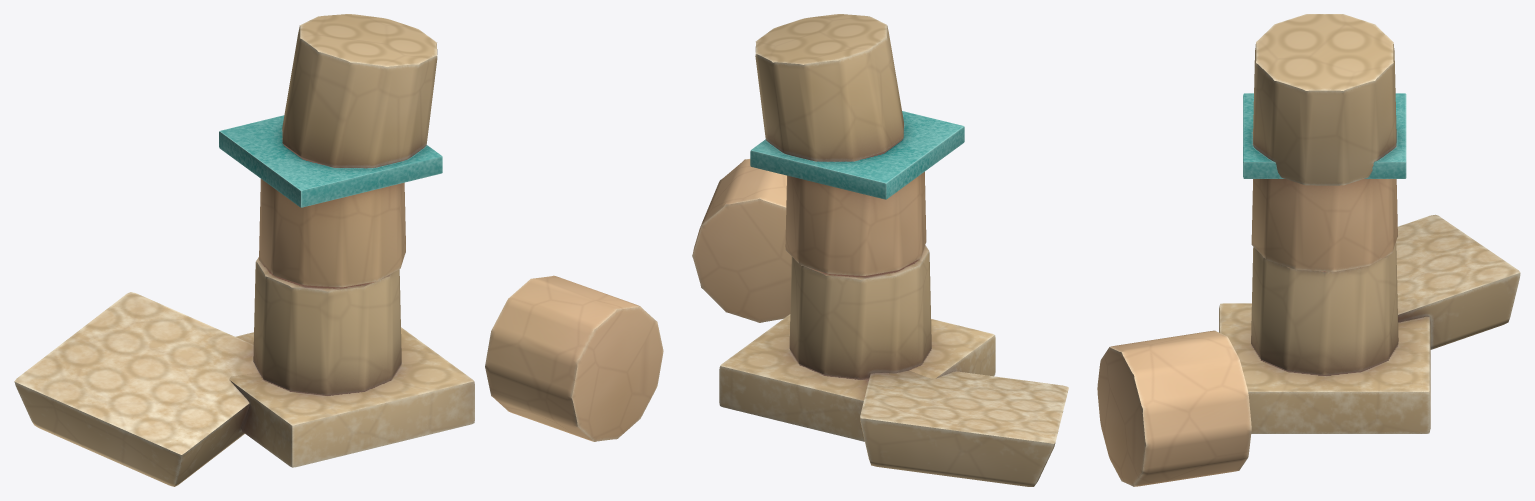
The model's file is Desert_ColonneBrisee.fbx.
3 views of the same model, side by side, from view 1: azimuth 30°, elevation 25°; view 2: azimuth 150°, elevation 25°; view 3: azimuth 270°, elevation 25° (orthographic). The views are drawn at different scales.
Visible parts, largest first — view 1: Desert_ColonneBrisee; view 2: Desert_ColonneBrisee; view 3: Desert_ColonneBrisee.
Part boxes in pixels (x1,y1,x2,y2): Desert_ColonneBrisee: (14, 14, 663, 486); Desert_ColonneBrisee: (692, 14, 1068, 486); Desert_ColonneBrisee: (1097, 14, 1520, 486).
Bounding box in the file's own units: 1204 × 891 × 881.
Materials: 1 (1 with a texture image).
